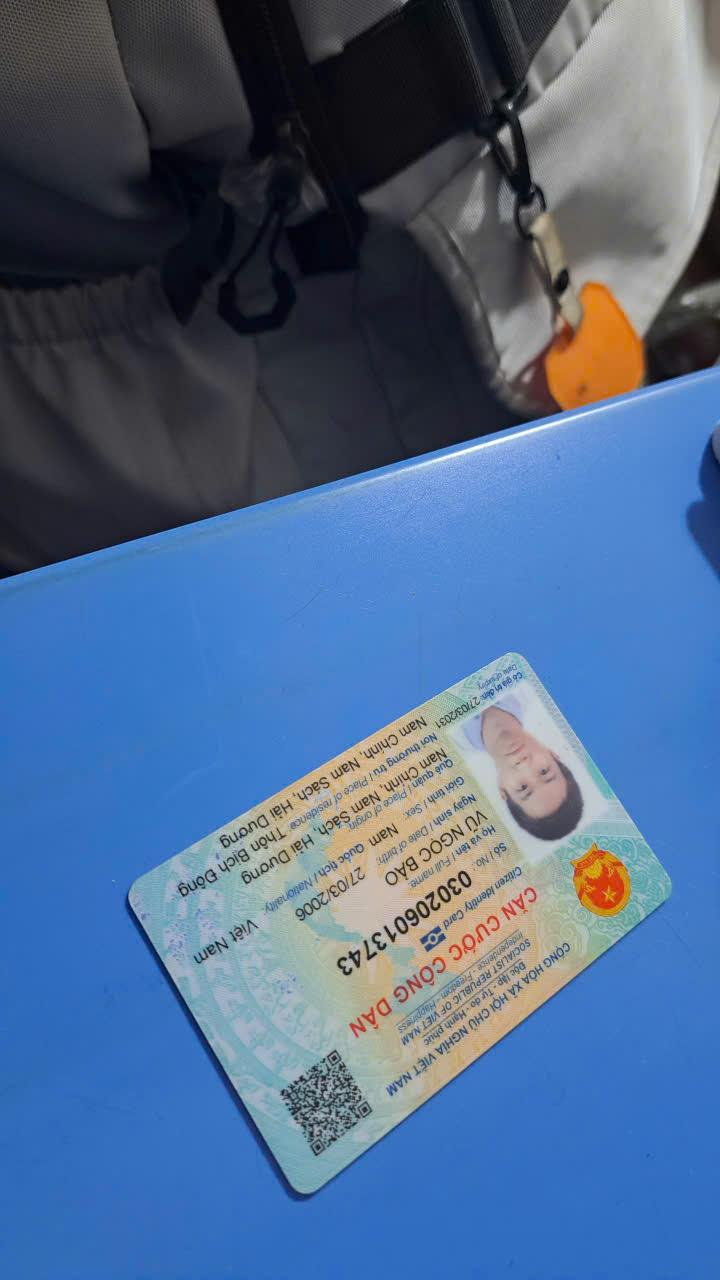cccd: (120, 639, 696, 1212)
